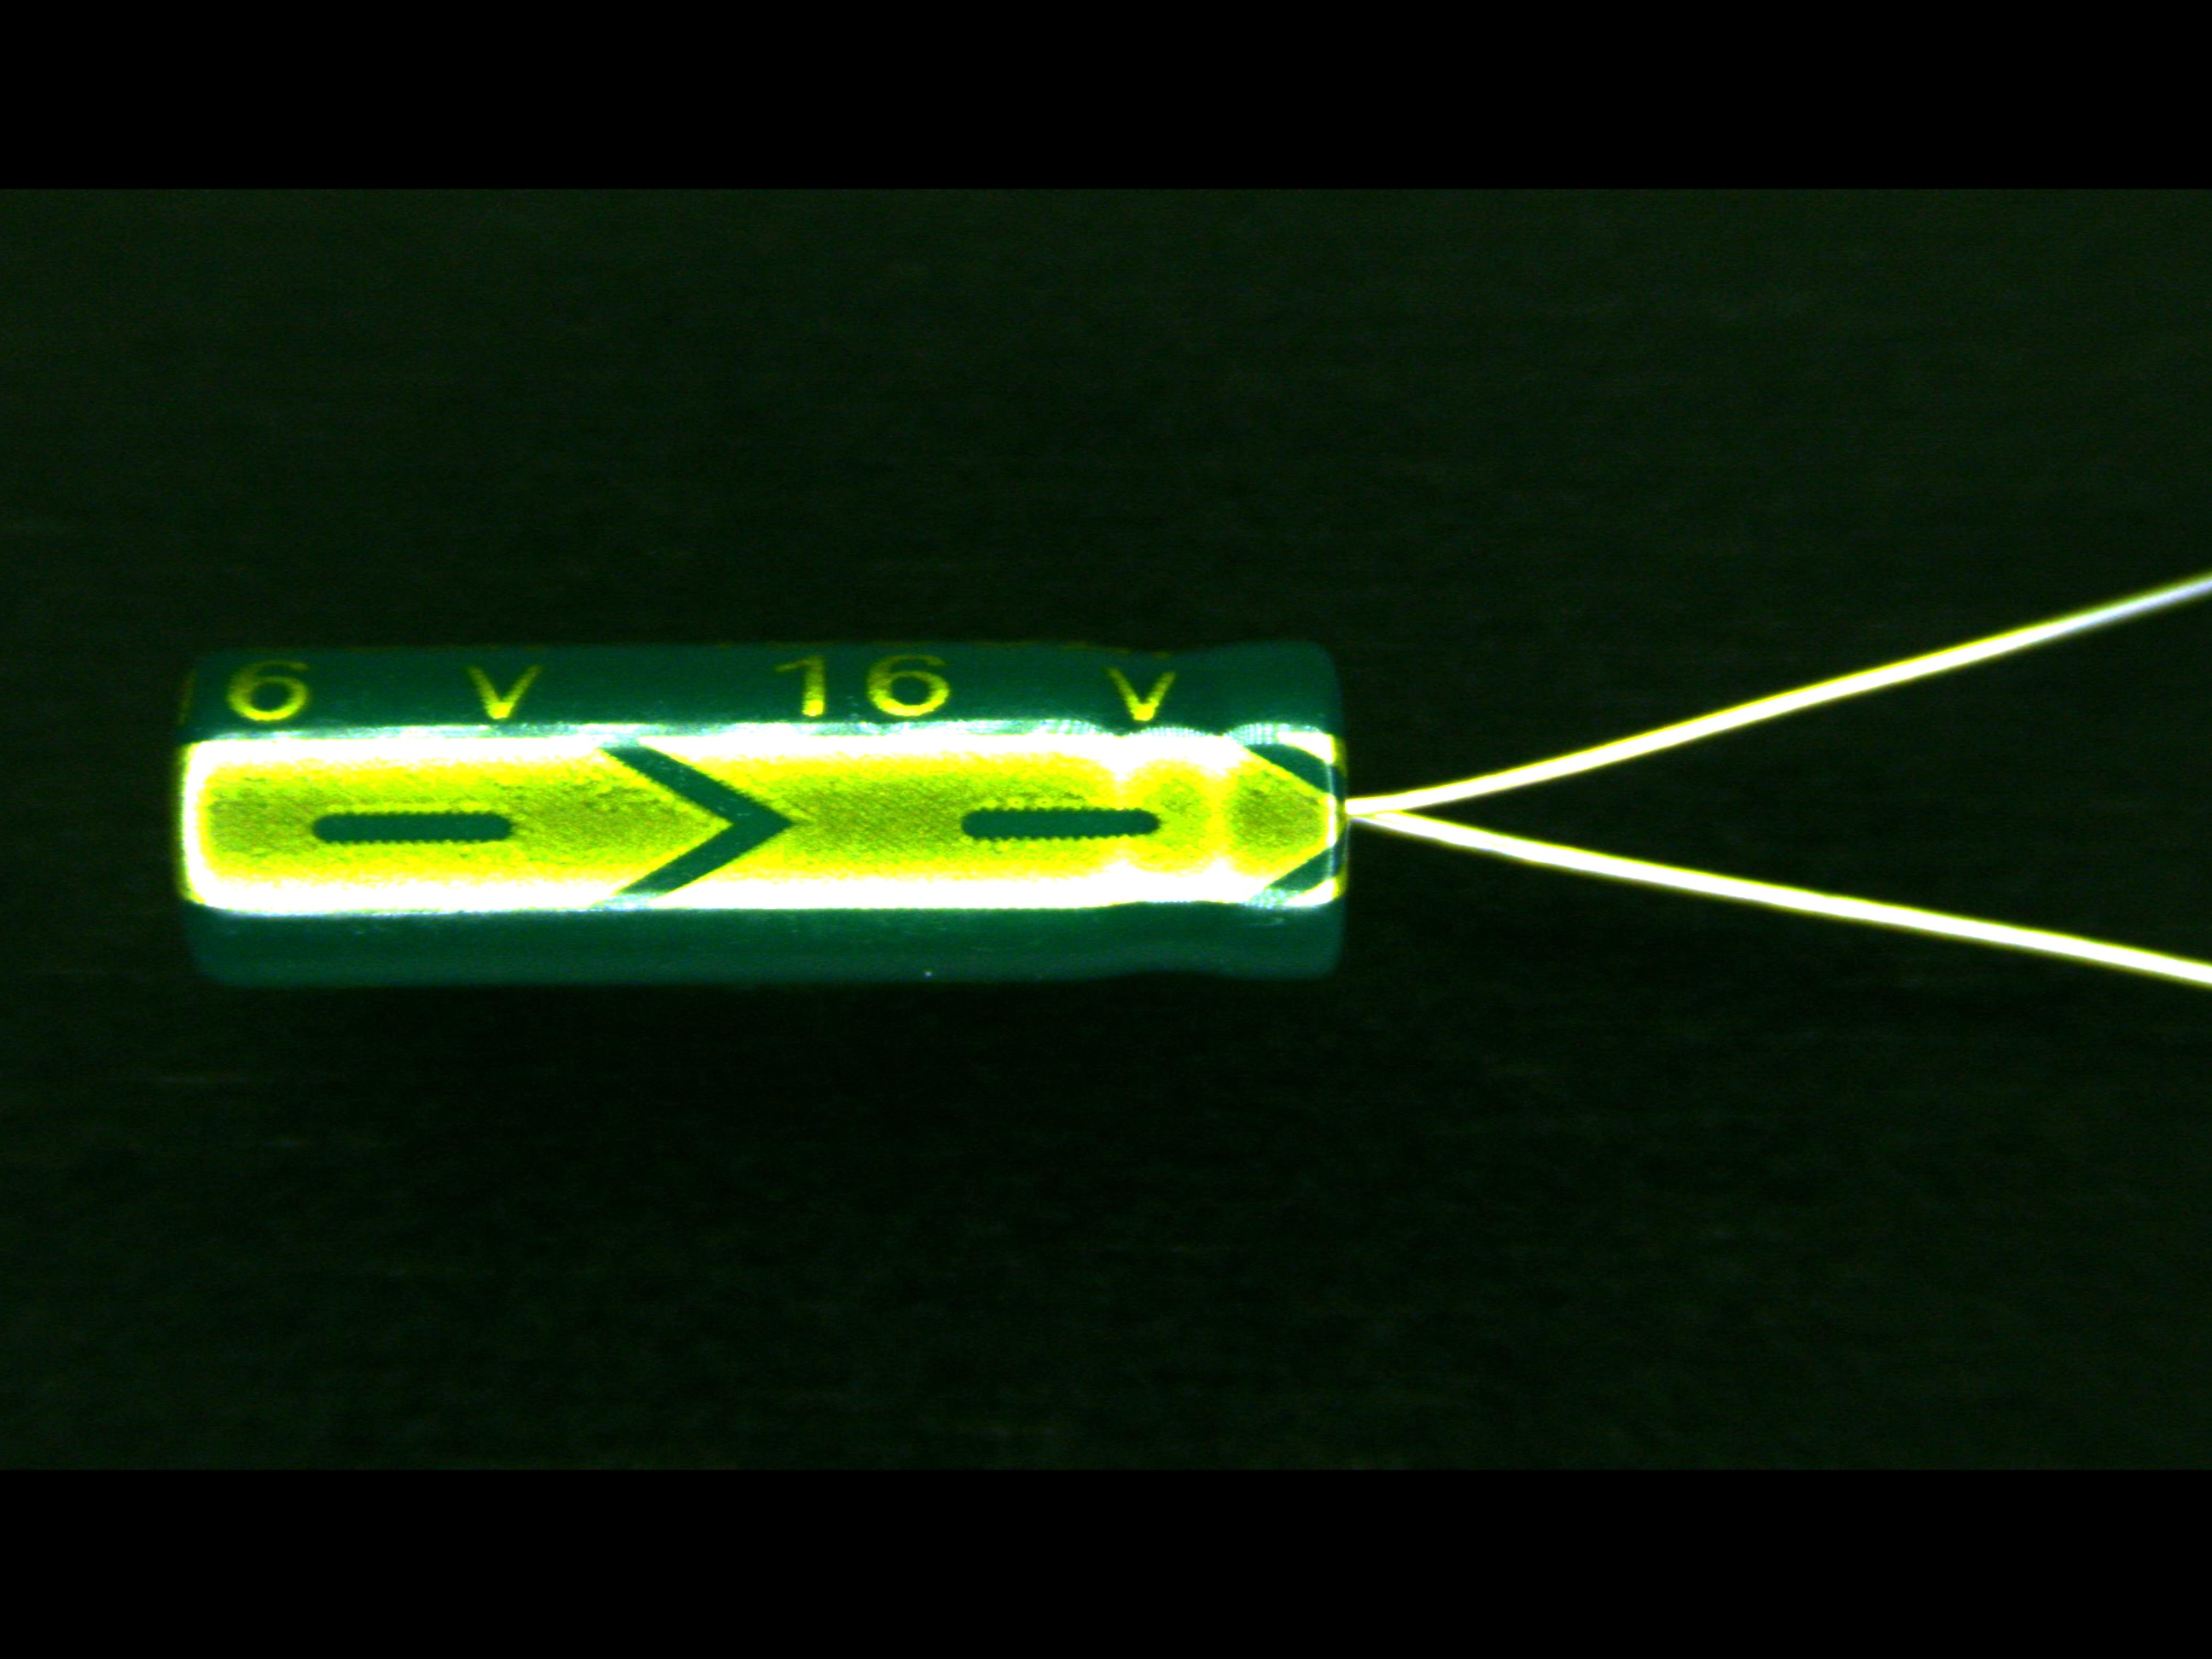c1: (172, 634, 1663, 992)
